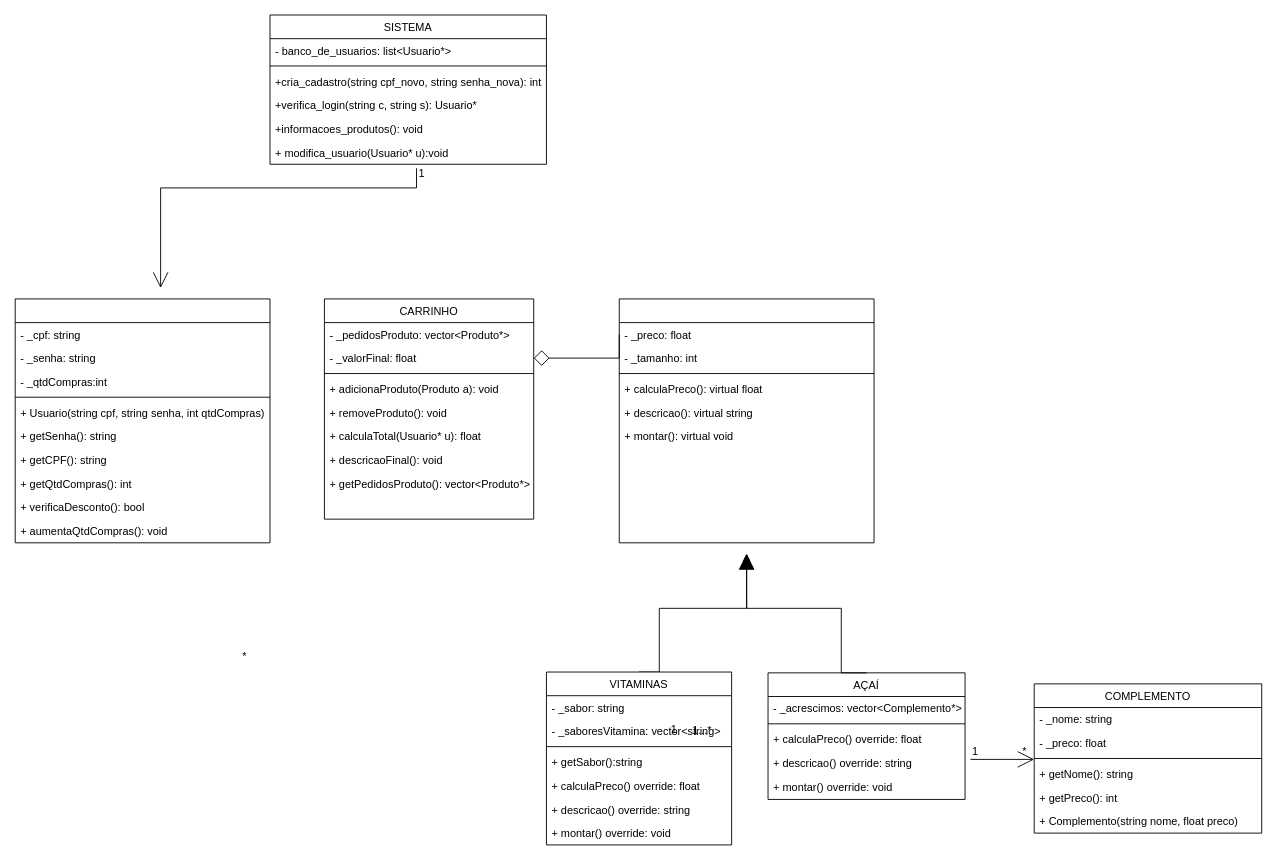
This 1277x860 diagram has some shape labels left out. The box of each missing label's shape, as (x1, y1, x2, y2) in pixels:
PRODUTOS: (618, 298, 874, 543)
USUÁRIO: (14, 298, 270, 543)
